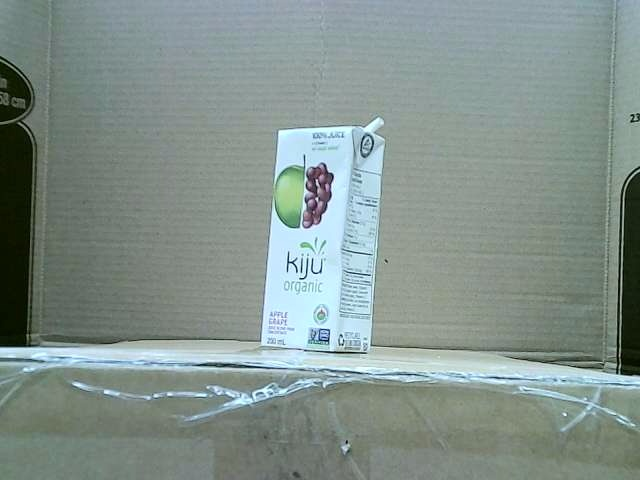JuiceBox: (258, 116, 385, 351)
